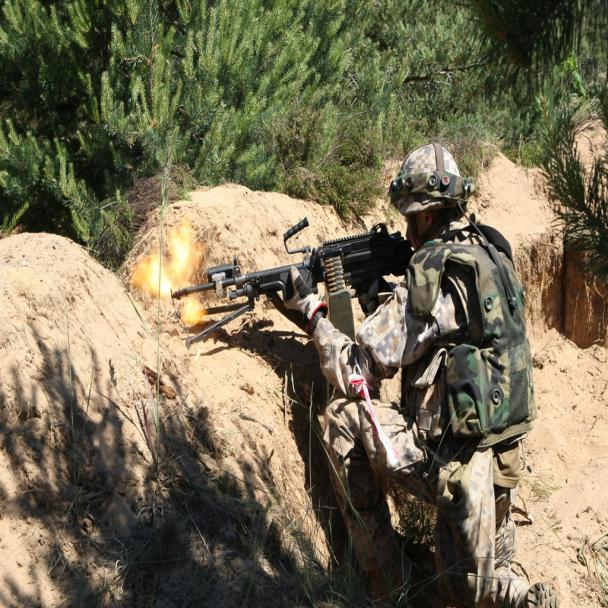Gun: (167, 216, 414, 318)
